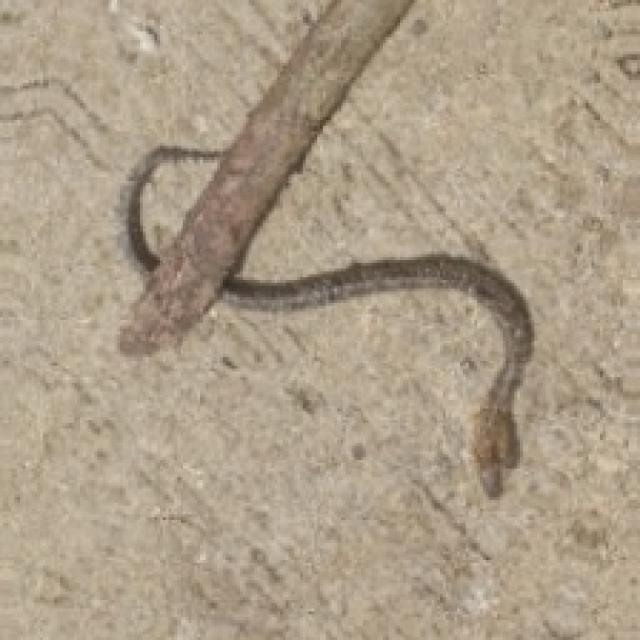philippine cobra: (120, 0, 531, 494), (220, 254, 531, 494), (137, 154, 220, 260)
